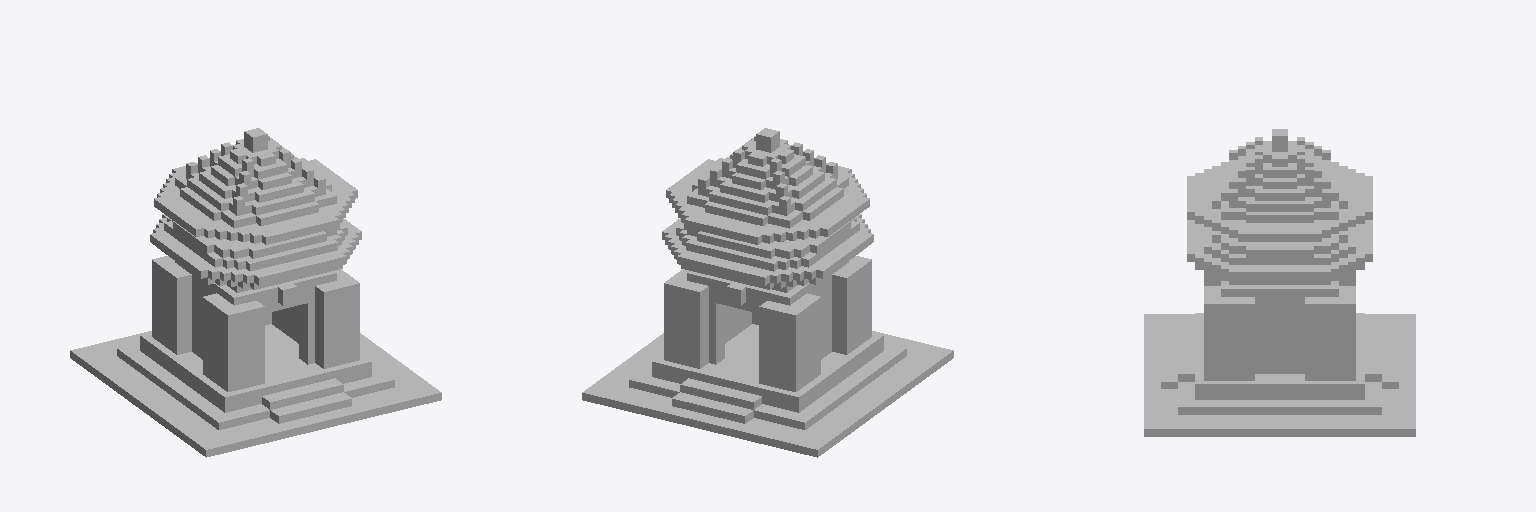
Rendered from temple.obj.
The picture shows the model from 3 angles: view 1: azimuth 30°, elevation 25°; view 2: azimuth 150°, elevation 25°; view 3: azimuth 270°, elevation 25°; orthographic projection.
Bounding box in the file's own units: 32 × 32 × 32.